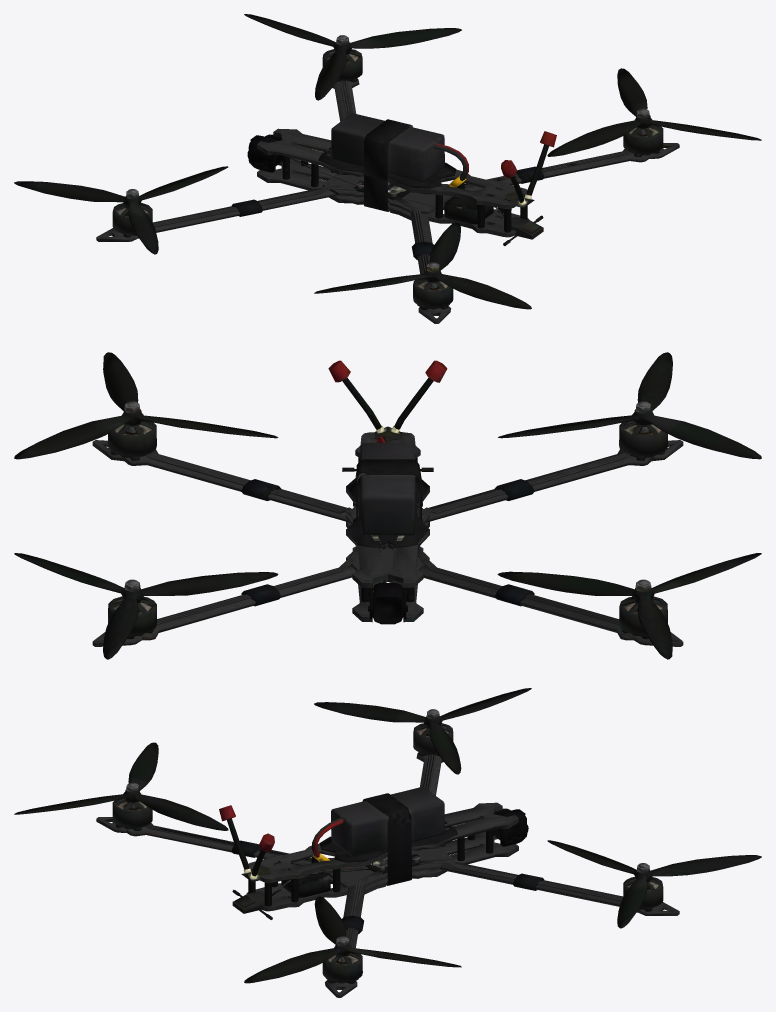
Rendered from item.drone.scan_fpv.glb.
3 renders of one model, top to bottom at view 1: azimuth 30°, elevation 25°; view 2: azimuth 150°, elevation 25°; view 3: azimuth 270°, elevation 25°, orthographic. The views are drawn at different scales.
Visible parts, largest first — view 1: Controller_Top; view 2: Controller_Top; view 3: Controller_Top.
Boxes of the visible parts, x1=… form: Controller_Top: x1=14, y1=14, x2=761, y2=323; Controller_Top: x1=14, y1=352, x2=761, y2=659; Controller_Top: x1=14, y1=688, x2=761, y2=997.
Bounding box in the file's own units: 1.01 × 0.1408 × 1.08.
1 material, 1 textured.
